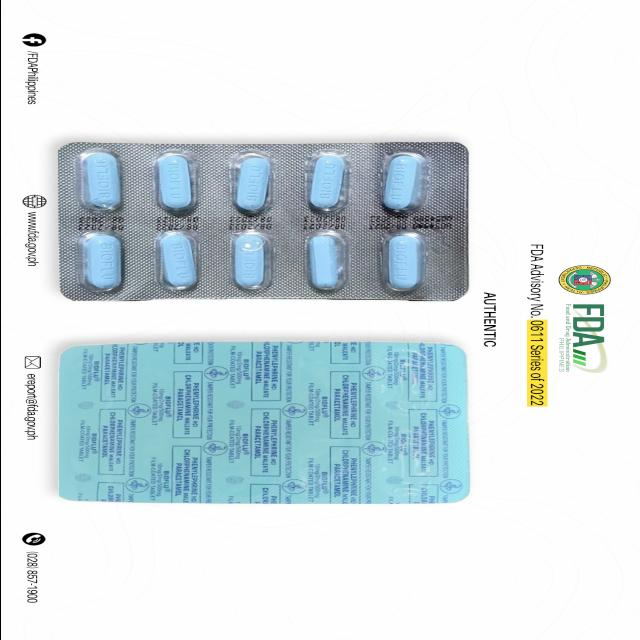authentic: (52, 342, 466, 506), (59, 140, 470, 302)
